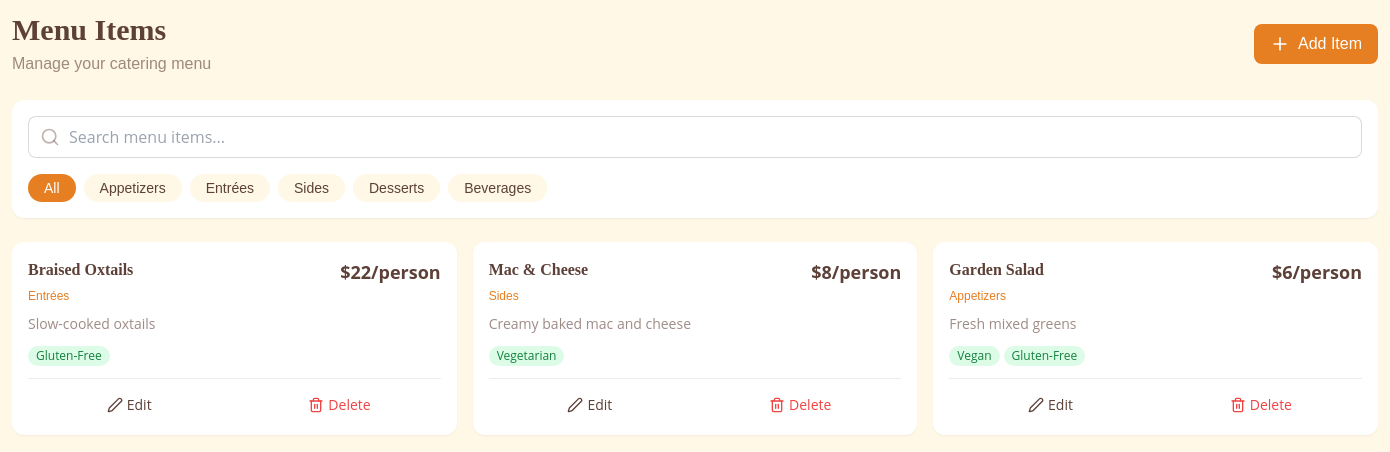
Test: Admin Menu Management Page › filters items by search query
Expected: the heading "Braised Oxtails" is shown, [28, 258, 133, 282]
Type "mac" into the field with placeholder "Search menu items...".
click(695, 137); type("mac")  # box [28, 116, 1362, 158]
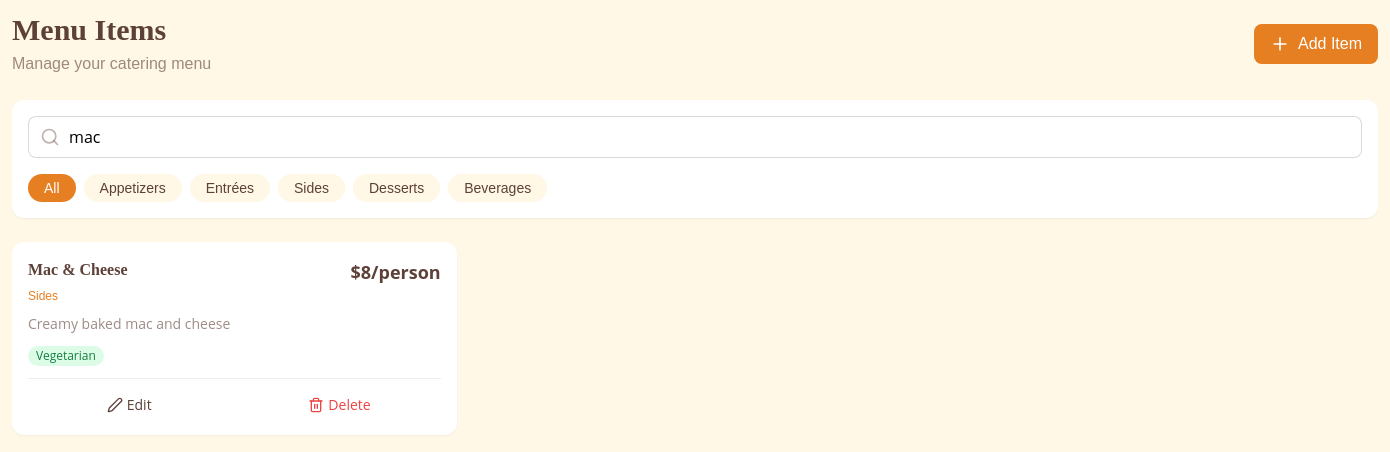
Expected: the heading "Mac & Cheese" is shown, [28, 258, 128, 282]
Expected: the heading "Braised Oxtails" is gone
